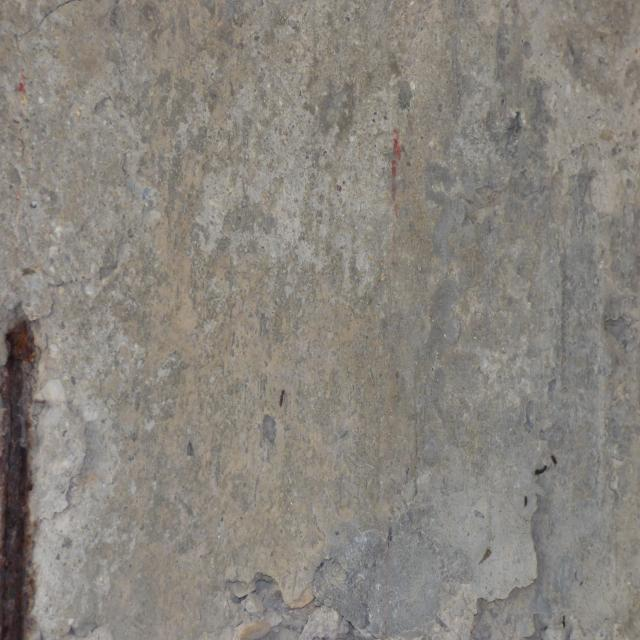corrosion: (1, 308, 48, 640), (519, 452, 561, 519), (271, 384, 290, 418), (560, 608, 572, 632)
